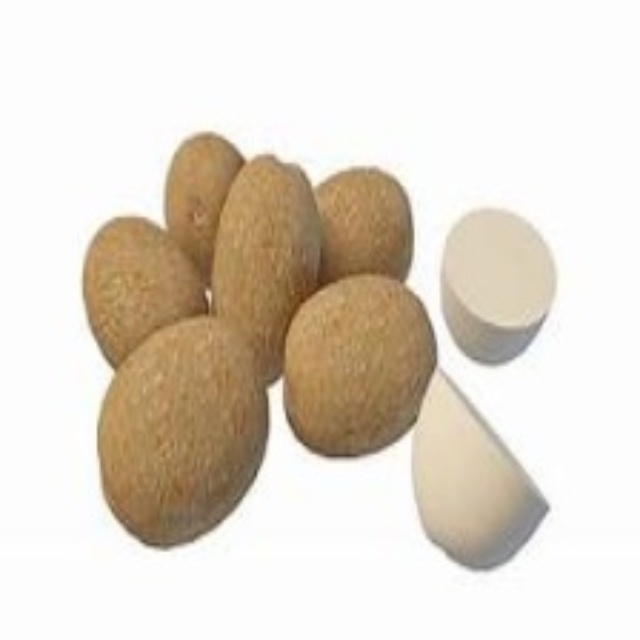kiwi: (103, 318, 262, 550), (211, 153, 318, 382), (283, 279, 424, 452), (80, 216, 203, 372), (302, 145, 418, 290), (160, 125, 244, 260)
